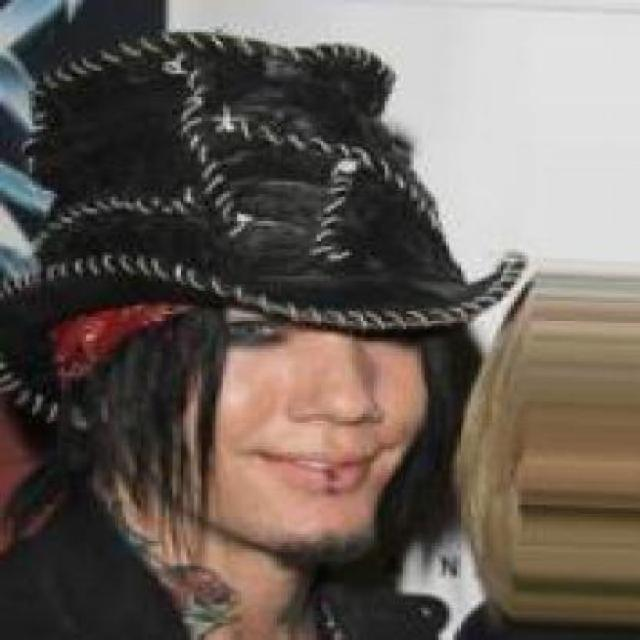closed-mouth: (234, 438, 390, 497)
